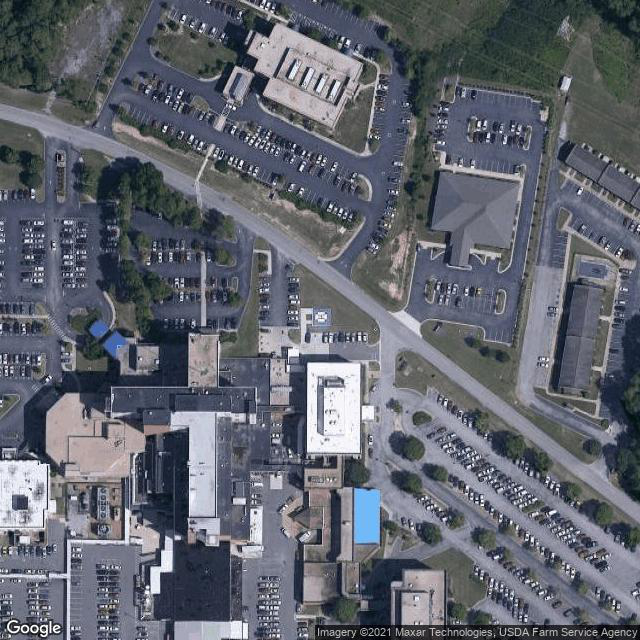Helipad: (310, 304, 333, 328)
